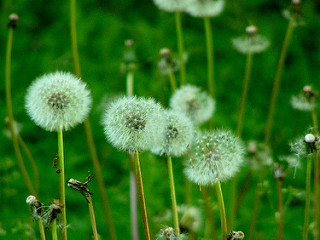dandelion: (95, 87, 172, 168), (19, 63, 94, 145), (173, 123, 250, 191), (165, 81, 222, 125)
